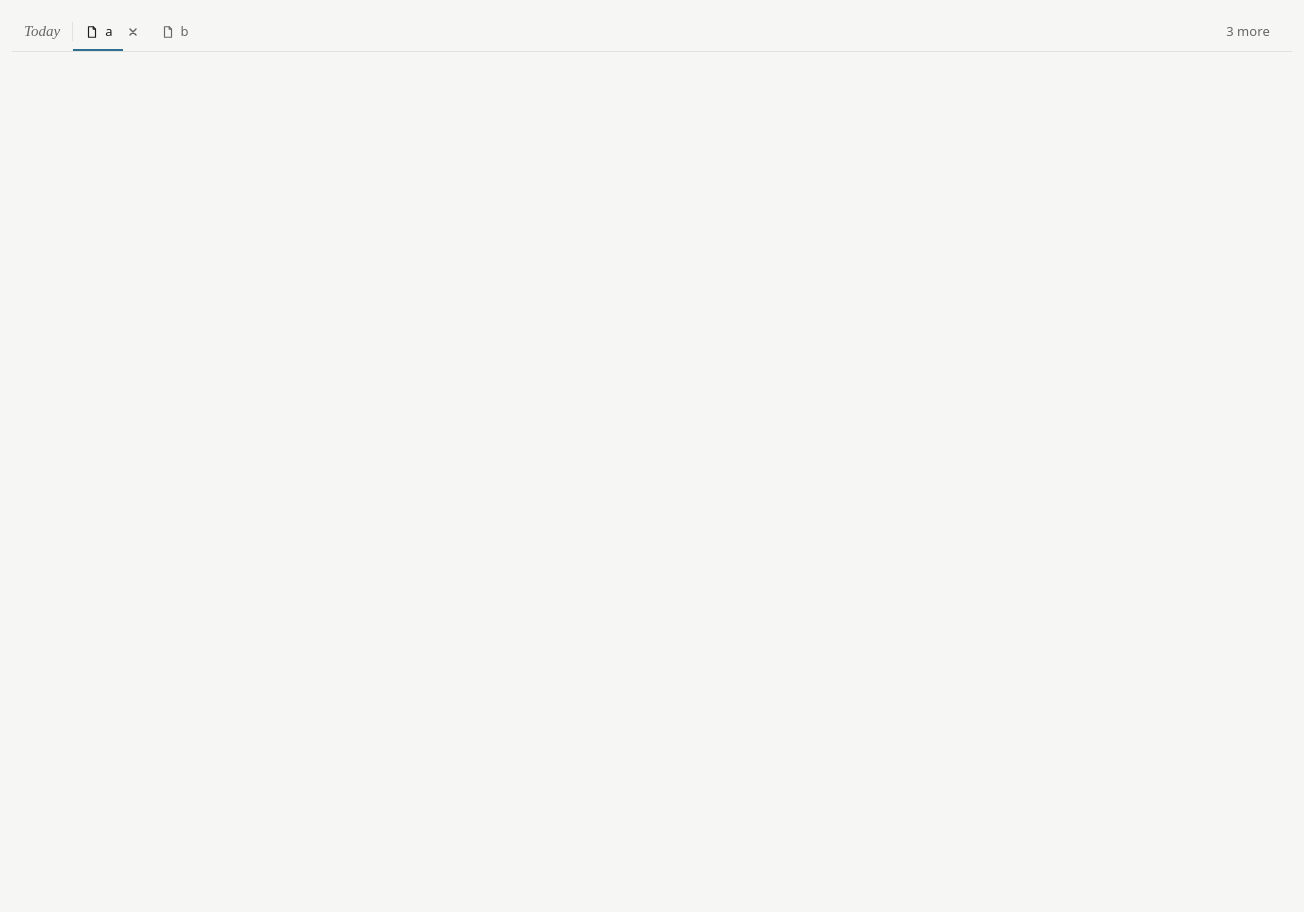
it: TabStrip › I6 a click outside the list closes it
Click the button "3 more".
click(1248, 32)  # box [1204,12,1292,51]
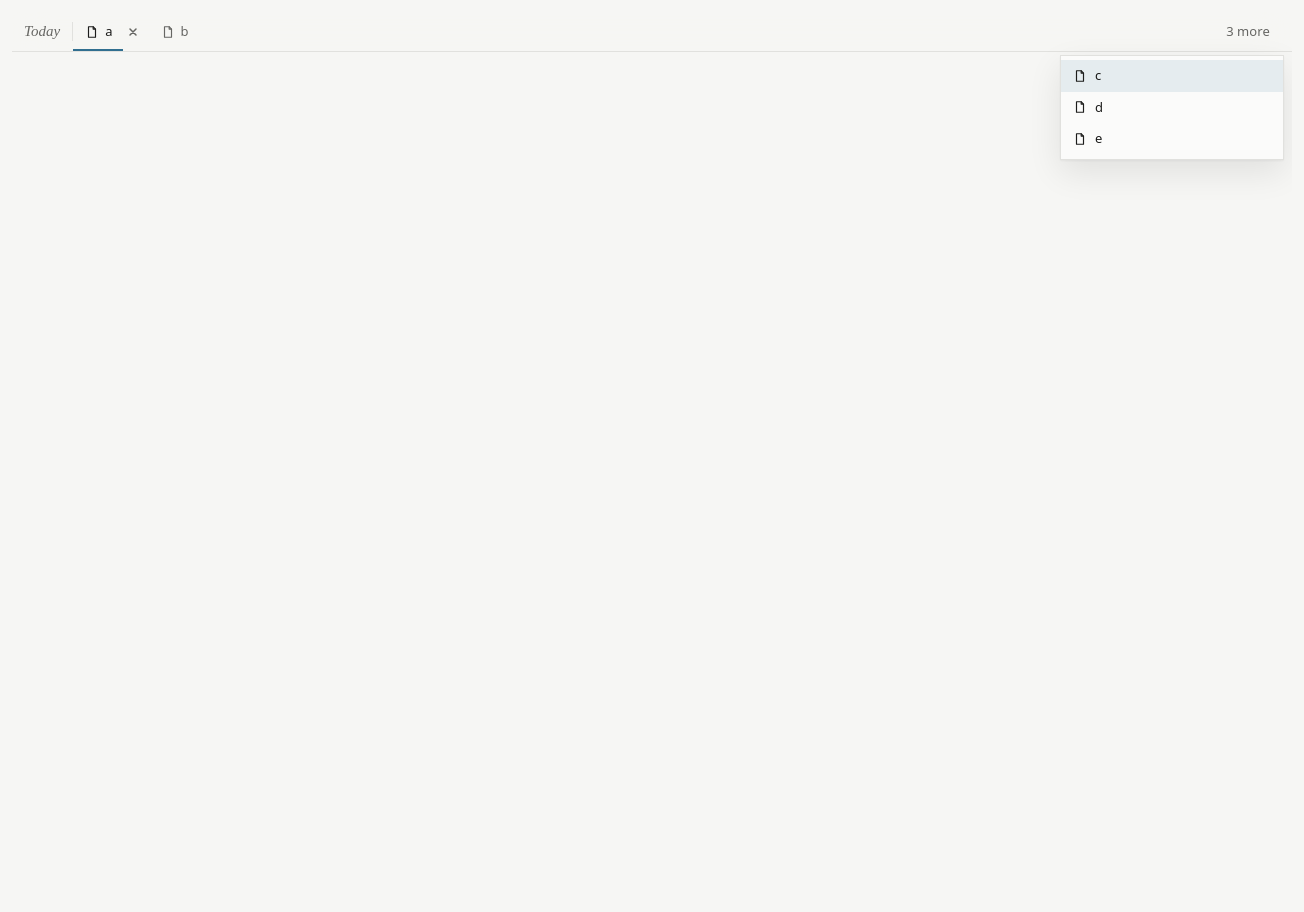
Press the mouse on the element showing "Today a b 3 more c d e" at coordinates (652, 462), box [12,12,1292,911]
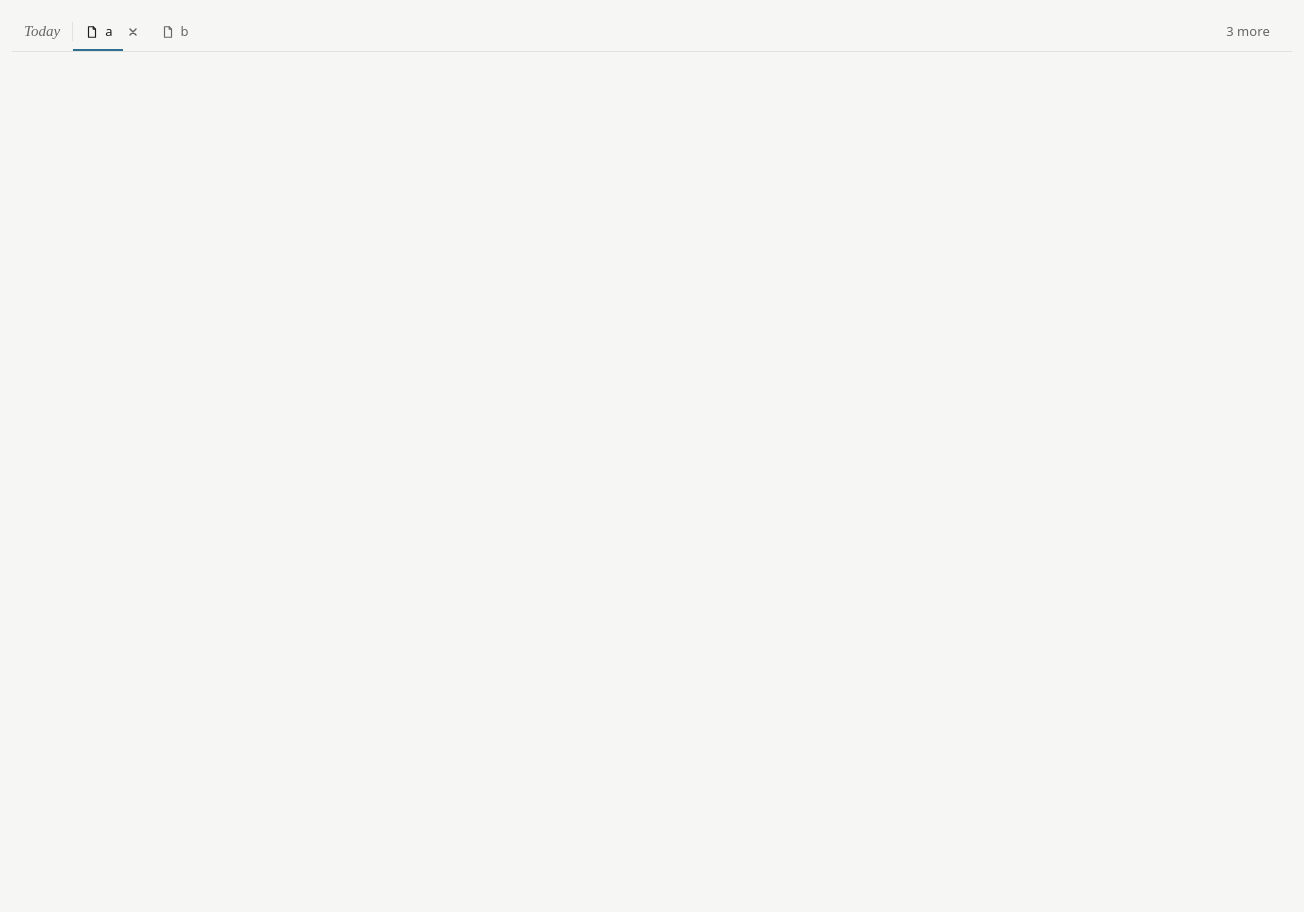
Expected: the menu is gone
